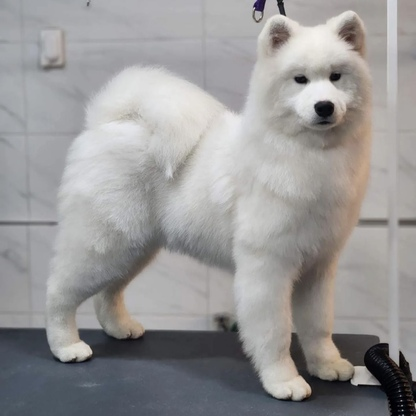samoyed: (35, 6, 379, 406)
